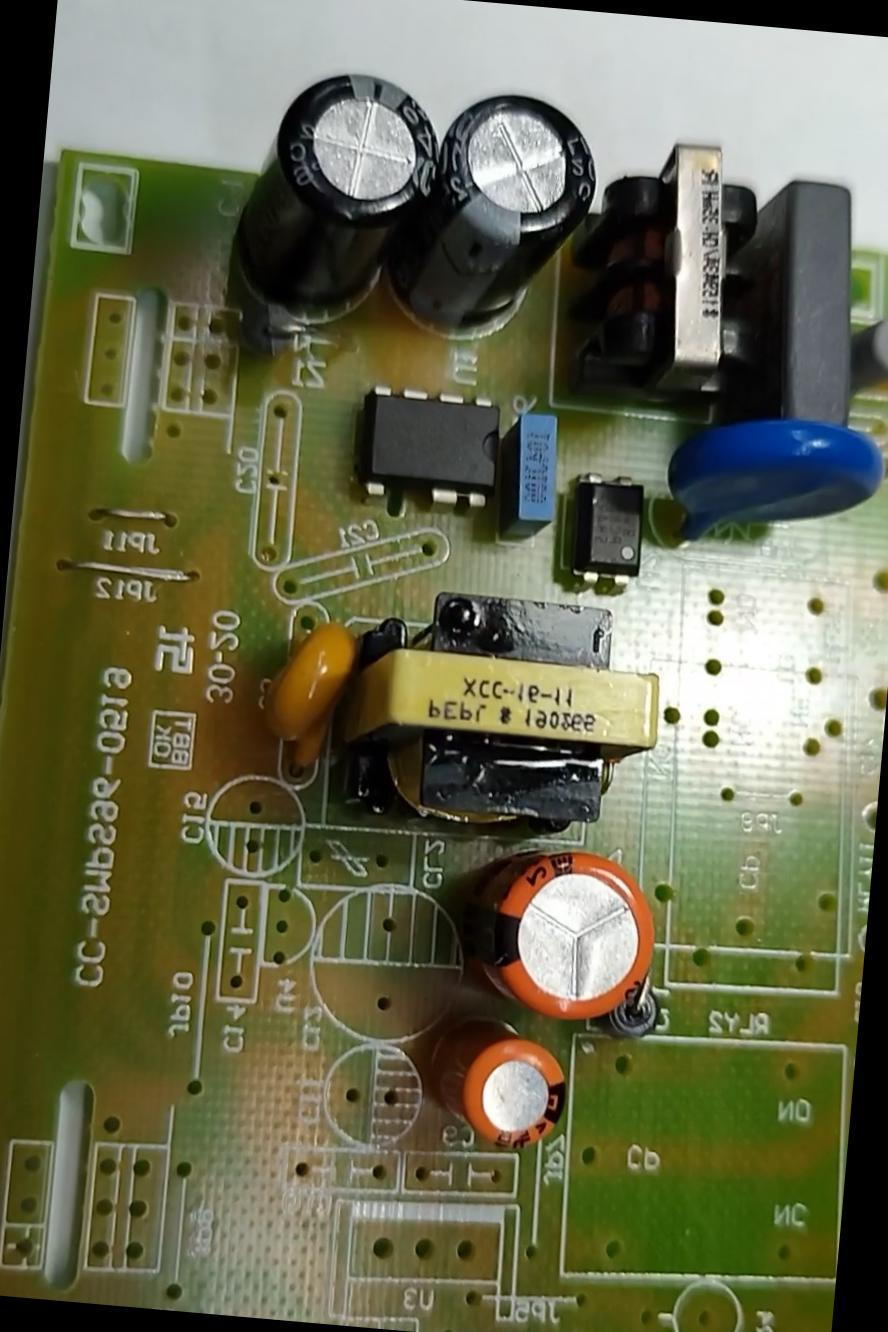Cap1: (438, 834, 678, 1044)
Cap2: (420, 1014, 583, 1167)
Cap3: (389, 82, 621, 350)
Cap4: (226, 62, 448, 348)
MOSFET: (323, 392, 509, 528)
Mov: (653, 386, 887, 561)
Resistor: (831, 298, 887, 416)
Transformer: (300, 567, 696, 850), (550, 118, 780, 428)
